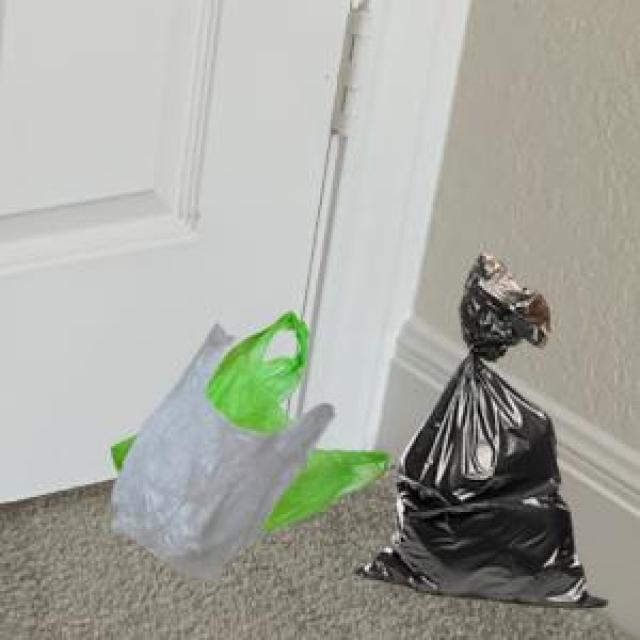miscellaneous trash: (352, 250, 604, 604)
